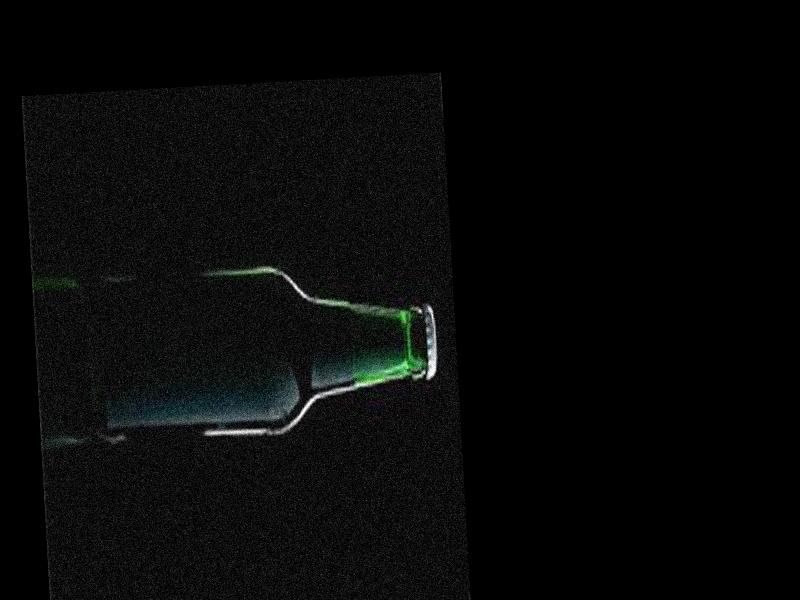Beer: (90, 257, 442, 450)
